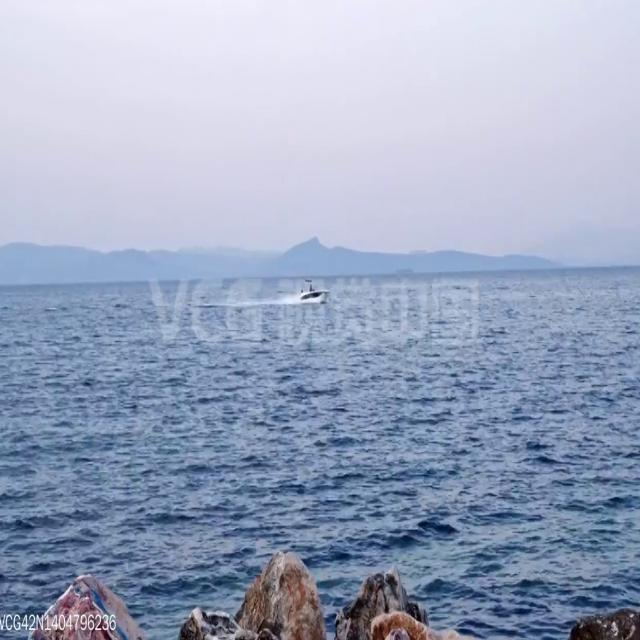houseboat: (301, 275, 330, 307)
